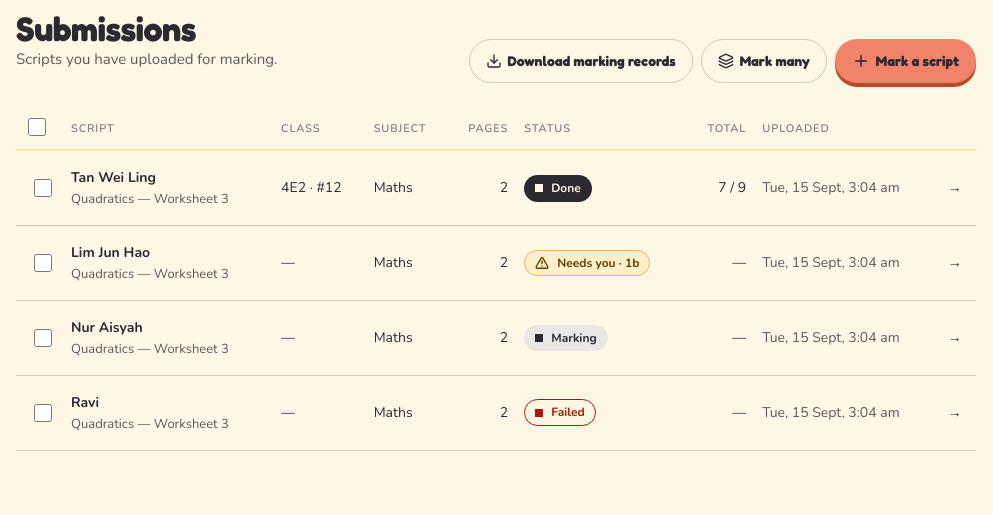
Test: Submissions — download marking records › with nothing ticked downloads every marked script shown and names how many were skipped
Click the button "Download marking records" at (581, 61), box [469,39,693,83]
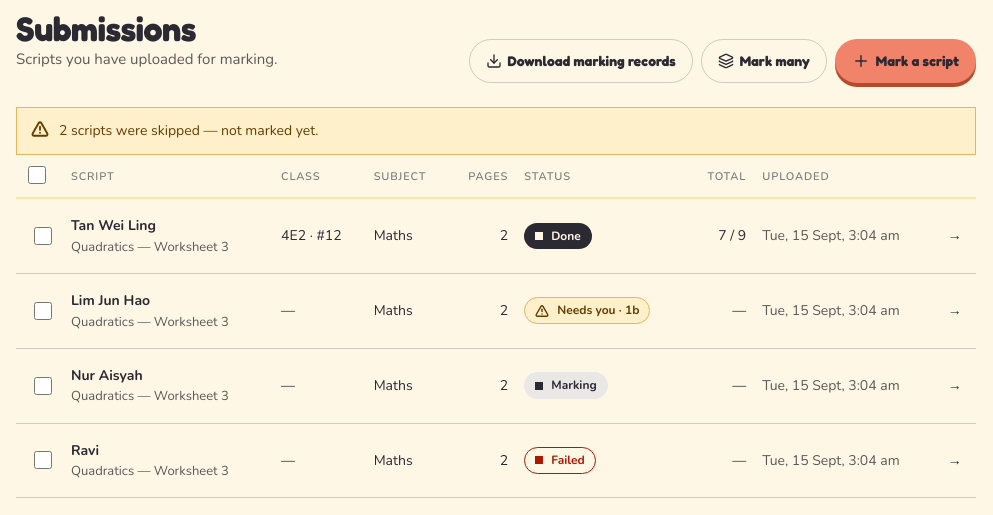
Check: the message reads "2 scripts were skipped — not marked yet.", box [59,121,318,140]
